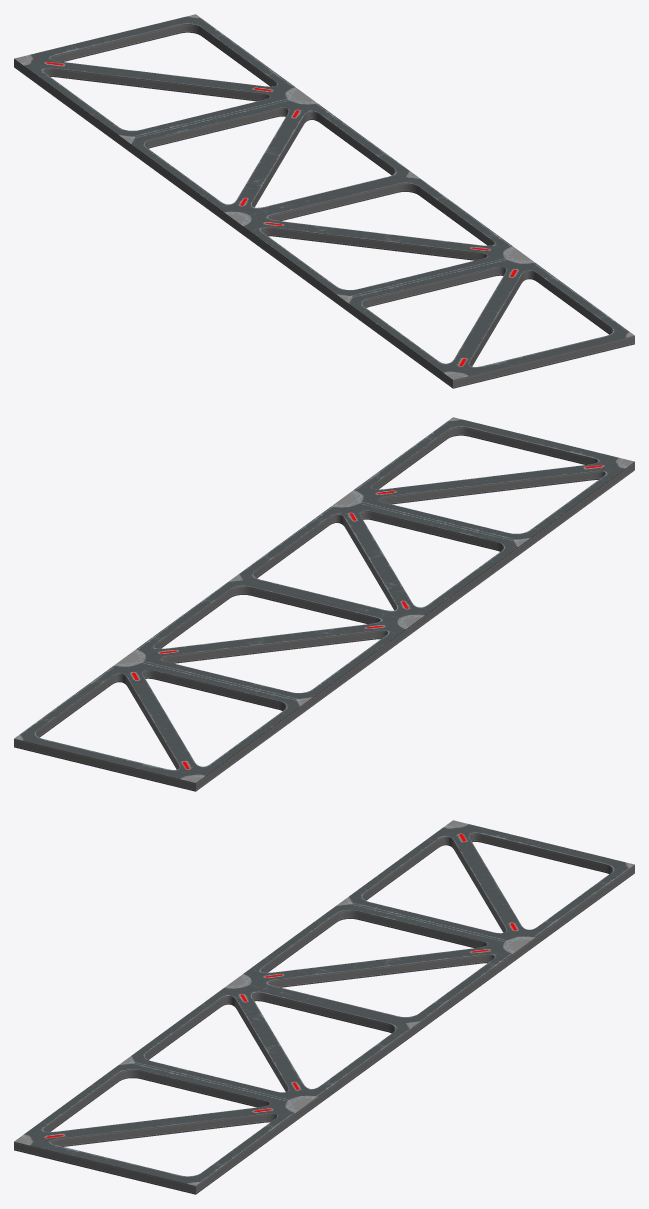
Rendered from Column_MetalSupport.gltf.
The picture shows the model from 3 angles, top to bottom: view 1: azimuth 30°, elevation 25°; view 2: azimuth 150°, elevation 25°; view 3: azimuth 330°, elevation 25°; orthographic projection.
Visible parts, largest first — view 1: Column_MetalSupport; view 2: Column_MetalSupport; view 3: Column_MetalSupport.
Boxes of the visible parts, x1,y1,x2,y2 form: Column_MetalSupport: (14,14,634,388); Column_MetalSupport: (14,417,634,791); Column_MetalSupport: (14,820,634,1194).
Size of the model in its own units: 0.9566 by 0.044 by 4.
Materials: 2 (2 with a texture image).
